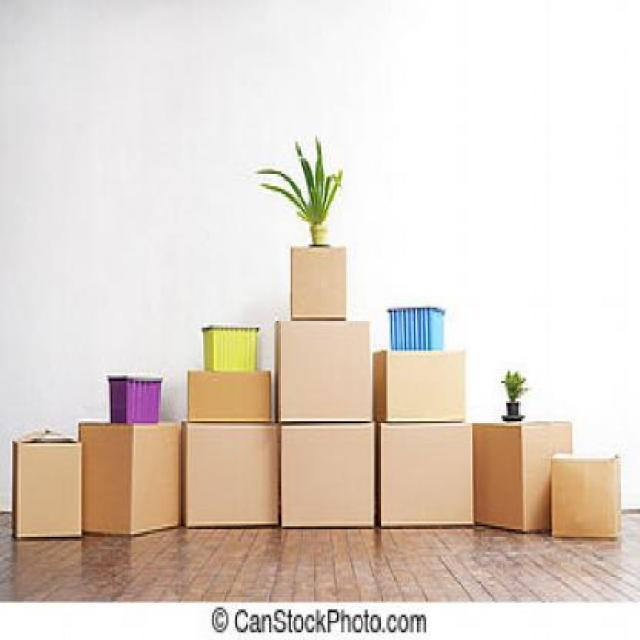box: (79, 416, 181, 536), (377, 420, 479, 532), (475, 420, 569, 540), (278, 419, 378, 529), (180, 418, 278, 526), (272, 324, 374, 421), (8, 434, 84, 538), (373, 347, 468, 425), (551, 442, 621, 543), (187, 366, 273, 422), (290, 245, 348, 320)
